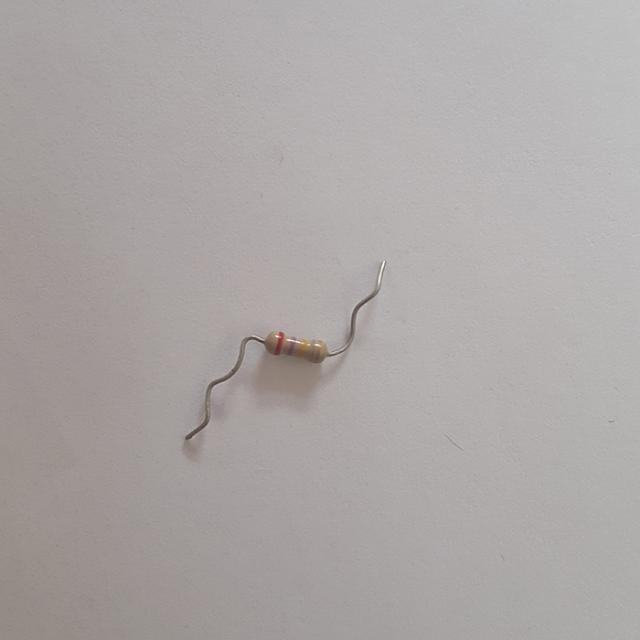gold: (315, 341, 321, 362)
red: (277, 331, 284, 353)
resistor: (257, 325, 334, 373)
violet: (290, 337, 295, 355)
yellow: (300, 340, 306, 356)
